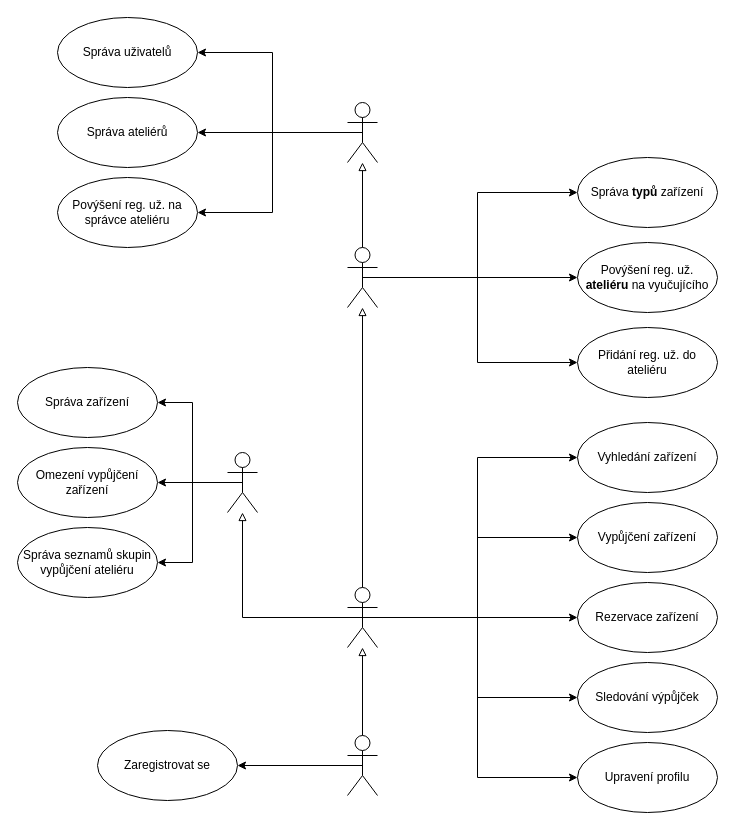
Image size: 735x834. Some labels were removed from this diagram. The shapes that lost their labels are listed below. From the top down, each one's box as (x1, y1, x2, y2) in pixels, then its label:
(346, 102, 378, 162): Administrátor
(346, 246, 378, 308): Správce ateliéru
(226, 452, 258, 512): Vyučující
(346, 586, 378, 648): Registrovaný uživatel
(346, 734, 378, 796): Neregistrovaný uživatel
